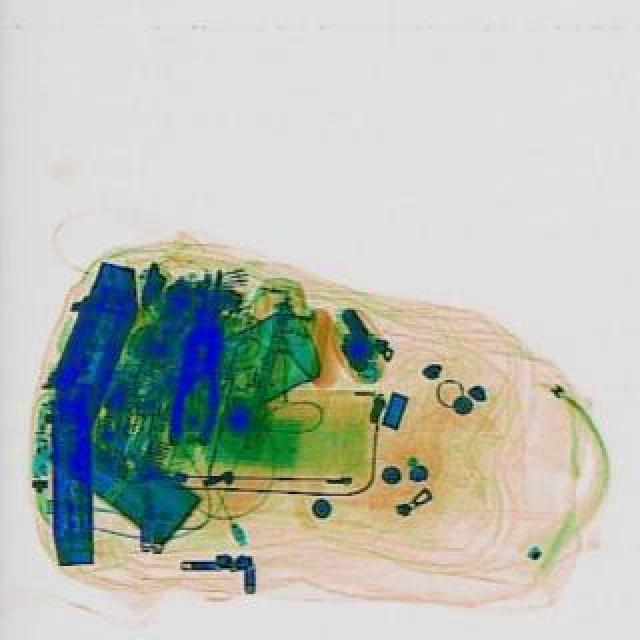wrench: (162, 266, 234, 446)
